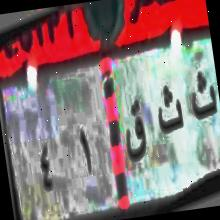1: (71, 109, 102, 185)
4: (32, 132, 66, 206)
qaaf: (115, 88, 153, 174)
thaa: (148, 74, 188, 148), (184, 59, 220, 131)
